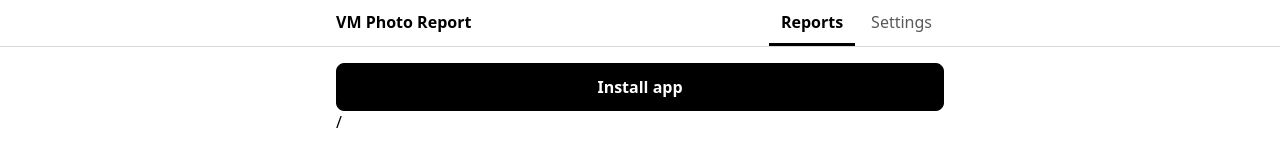
Scenario: Layout banner › Android with a captured install prompt: Install app prompts once, then makes way for notifications
Later steps or results of the test are not shown.
Expected: the button "Turn on notifications" is not shown
Click the button "Install app" at (640, 87), box x1=336 y1=63 x2=944 y2=111
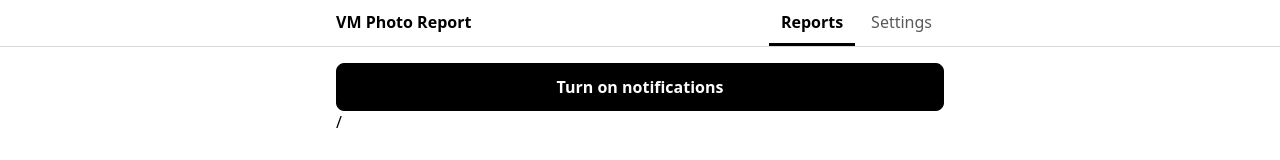
Expected: the button "Install app" is gone
Expected: the button "Turn on notifications" is shown, x1=336 y1=63 x2=944 y2=111
